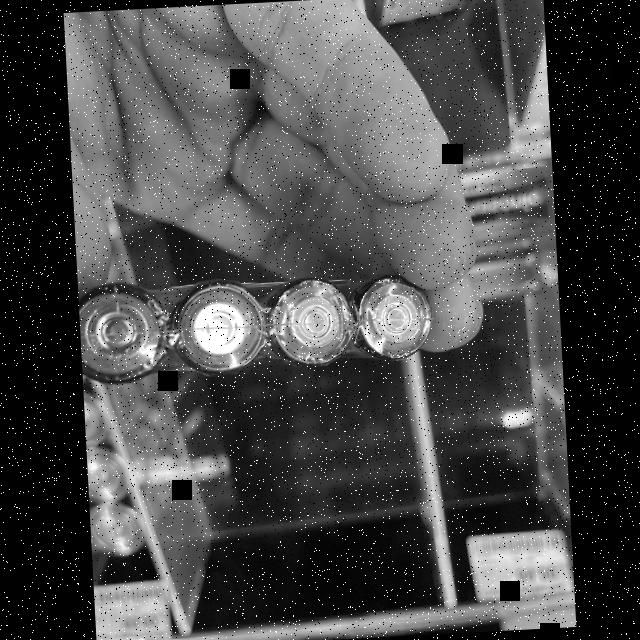battery: (406, 156, 557, 312), (84, 388, 202, 560), (334, 266, 445, 372), (175, 265, 275, 380), (79, 283, 161, 393), (271, 279, 361, 373), (343, 280, 431, 373)
